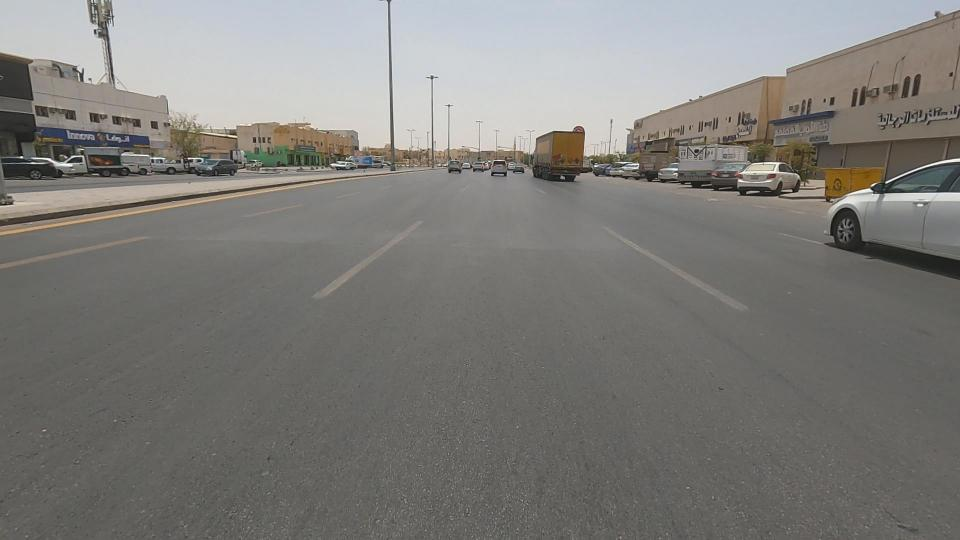BAD_BILLBOARD: (625, 127, 696, 171)
